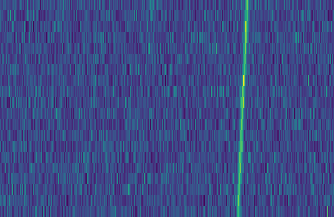signal: (234, 0, 253, 217)
